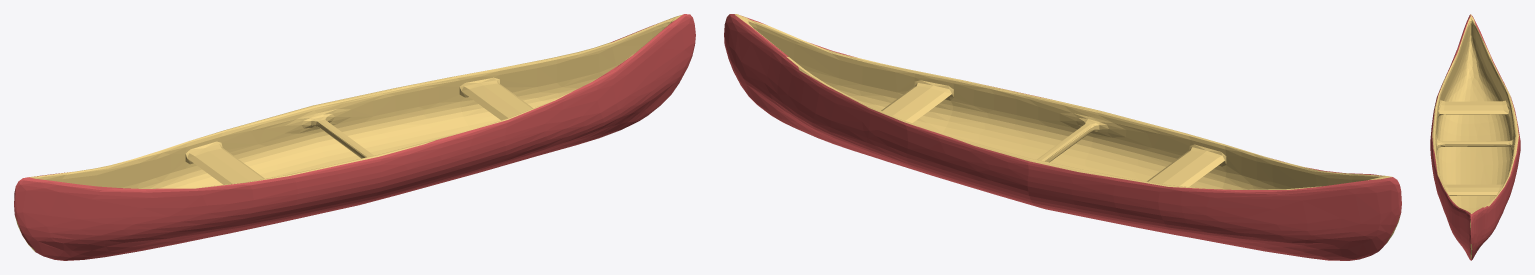
Rendered from f4658b1b-54f0-488c-8baf-93dc358a53fa.glb.
The picture shows the model from 3 angles, left to right: view 1: azimuth 30°, elevation 25°; view 2: azimuth 150°, elevation 25°; view 3: azimuth 270°, elevation 25°; orthographic projection. The views are drawn at different scales.
Visible parts, largest first — view 1: Canoe; view 2: Canoe; view 3: Canoe.
Boxes of the visible parts, <box> form: Canoe: <box>14,14,695,260</box>; Canoe: <box>724,14,1401,260</box>; Canoe: <box>1430,14,1520,260</box>.
Bounding box in the file's own units: 455 × 70.78 × 83.81.
